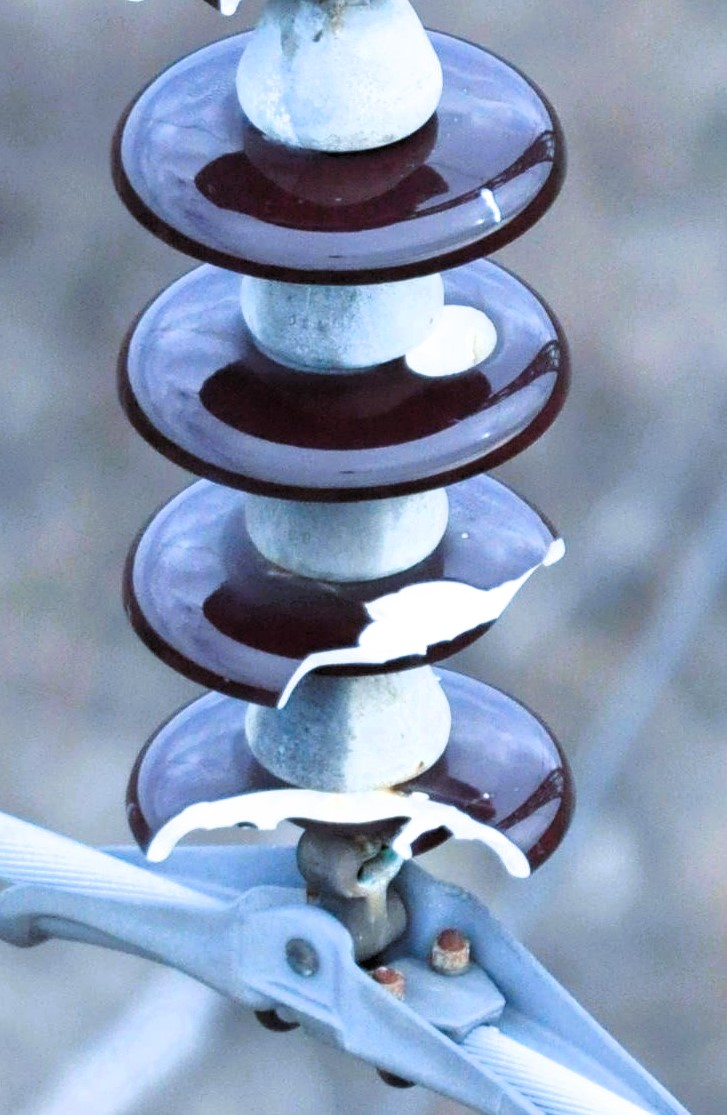insulator breakage: (99, 509, 587, 711), (116, 730, 561, 893)
